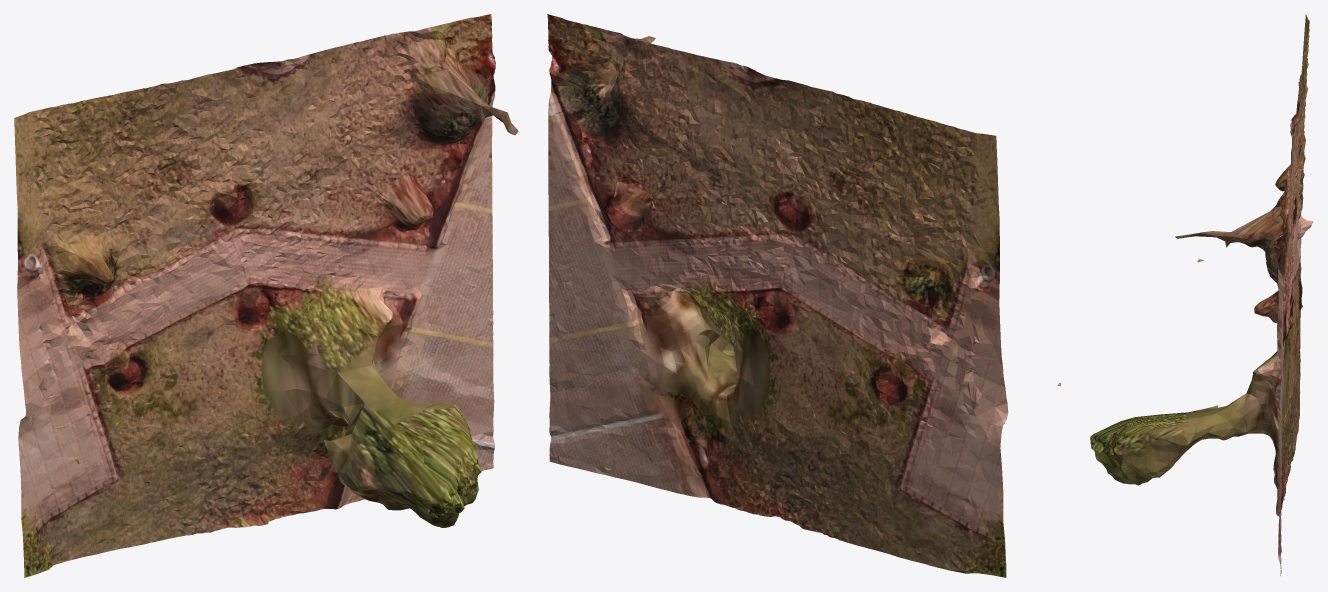
The model's file is tile_4_14.obj.
3 renders of one model, left to right at view 1: azimuth 30°, elevation 25°; view 2: azimuth 150°, elevation 25°; view 3: azimuth 270°, elevation 25°, orthographic. The views are drawn at different scales.
Visible parts, largest first — view 1: texture_0; view 2: texture_0; view 3: texture_0.
Boxes of the visible parts, bbox=[...] form: texture_0: bbox=[14, 14, 518, 577]; texture_0: bbox=[547, 14, 1060, 577]; texture_0: bbox=[1090, 14, 1313, 575].
Bounding box in the file's own units: 13.88 × 12.92 × 6.97.
Materials: 1 (1 with a texture image).
